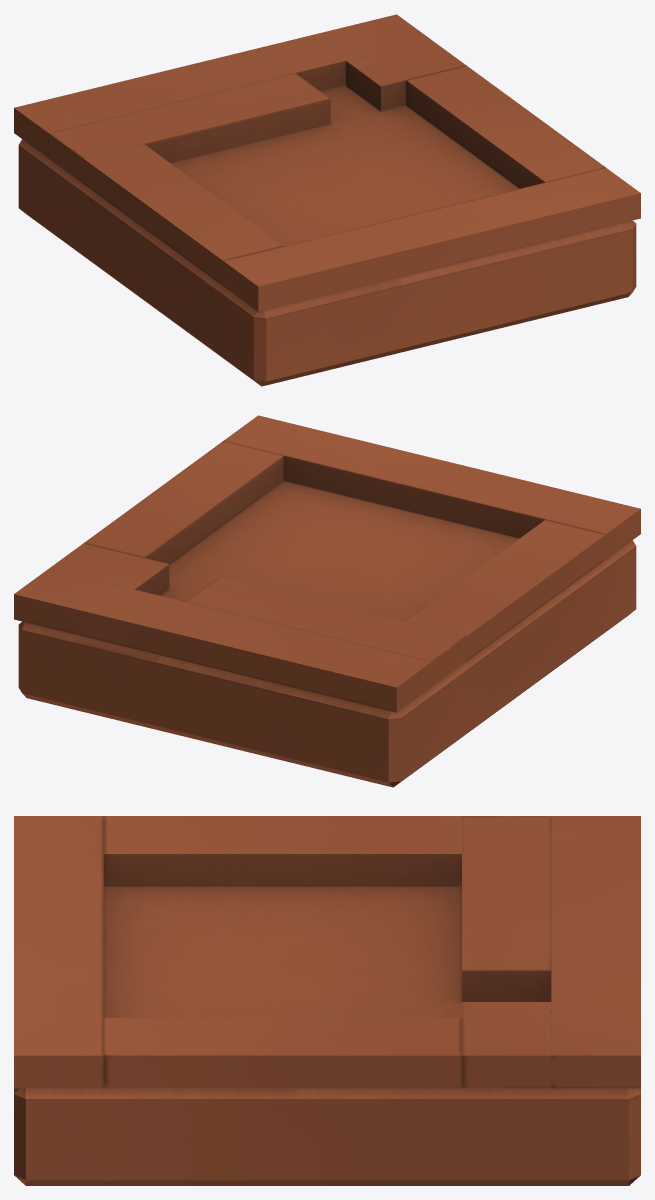
The model's file is RenewableEnergy_BatteryPlateMold.fbx.
3 views of the same model, one above another, from view 1: azimuth 30°, elevation 25°; view 2: azimuth 150°, elevation 25°; view 3: azimuth 270°, elevation 25° (orthographic). The views are drawn at different scales.
Parts seen in each view (by area): view 1: BatteryPlateMold; view 2: BatteryPlateMold; view 3: BatteryPlateMold.
Part boxes in pixels (x1=…): BatteryPlateMold: x1=14, y1=14, x2=640, y2=386; BatteryPlateMold: x1=14, y1=415, x2=640, y2=787; BatteryPlateMold: x1=14, y1=816, x2=640, y2=1185.
Bounding box in the file's own units: 0.19 × 0.05 × 0.21.
